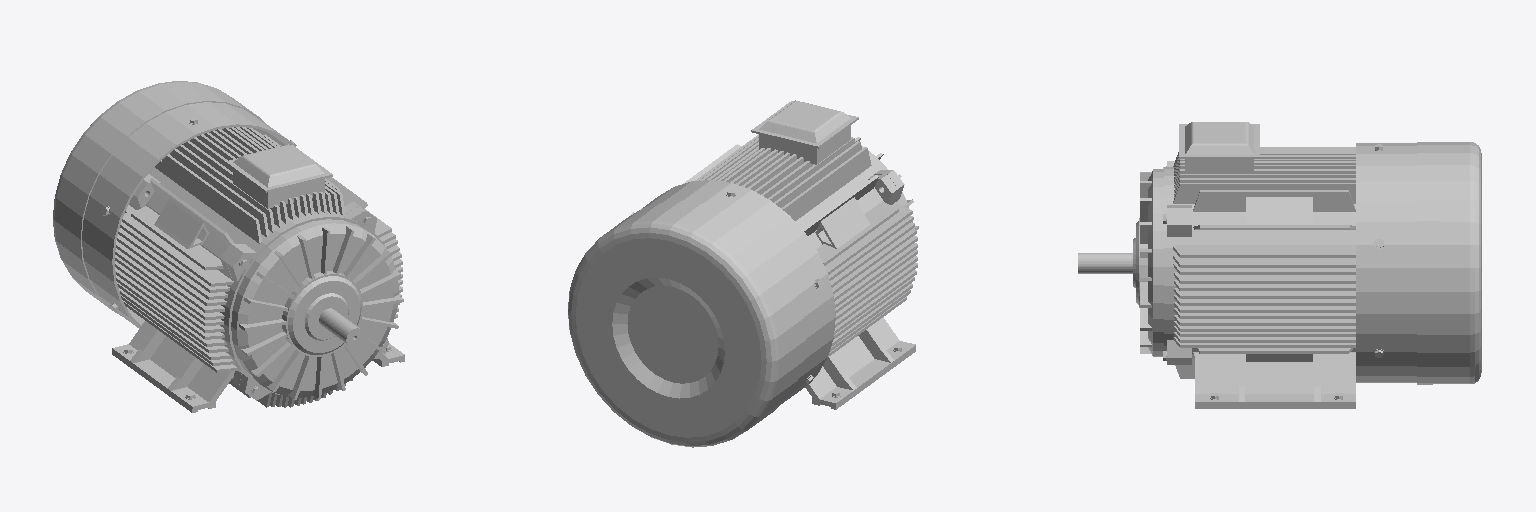
File: electric_motor.obj
3 views of the same model, side by side, from view 1: azimuth 30°, elevation 25°; view 2: azimuth 150°, elevation 25°; view 3: azimuth 270°, elevation 25° (orthographic).
Parts seen in each view (by area): view 1: electric_motor; view 2: electric_motor; view 3: electric_motor.
Boxes of the visible parts, x1=… form: electric_motor: x1=53, y1=81, x2=404, y2=412; electric_motor: x1=568, y1=100, x2=918, y2=447; electric_motor: x1=1078, y1=122, x2=1481, y2=408.
Size of the model in its own units: 43.88 by 47.09 by 71.81.